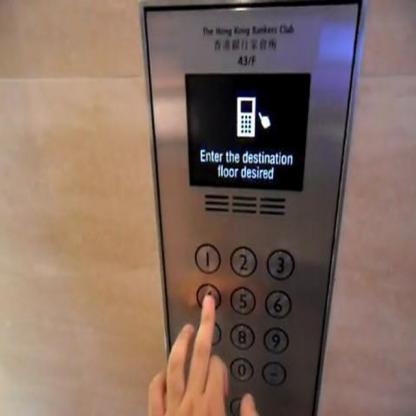-: (261, 361, 287, 386)
0: (229, 356, 254, 381)
1: (194, 243, 220, 273)
2: (228, 244, 258, 276)
3: (264, 247, 294, 280)
5: (230, 285, 256, 315)
6: (263, 289, 291, 318)
8: (228, 322, 255, 349)
9: (262, 326, 288, 353)
led: (183, 70, 310, 192)
